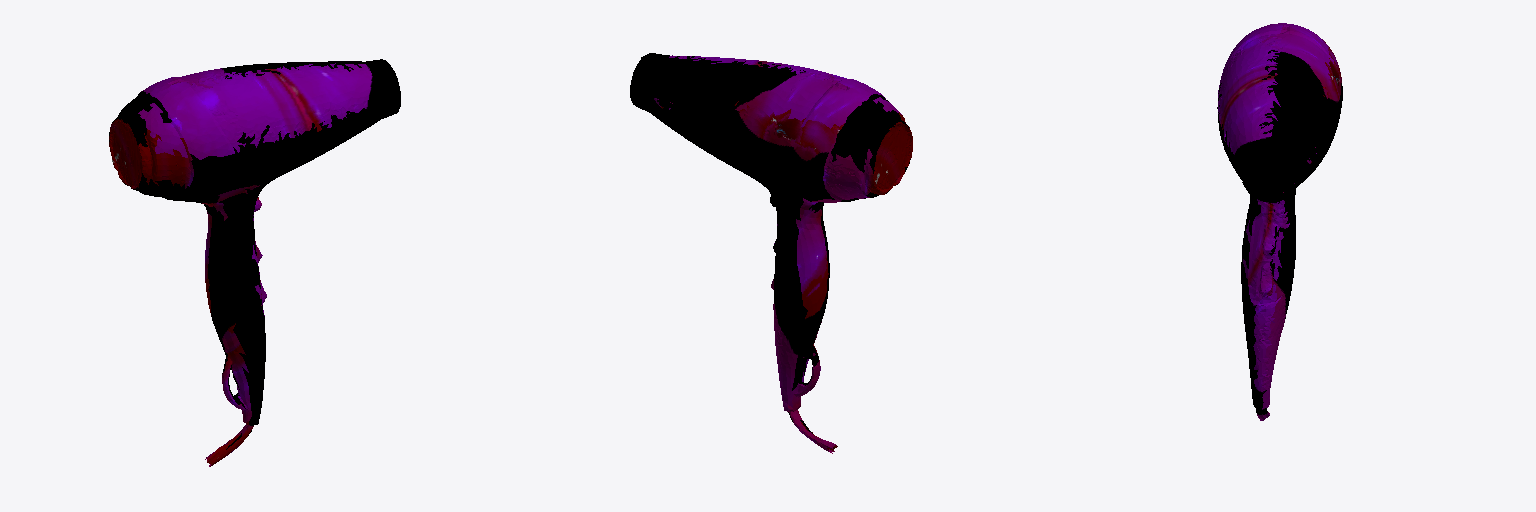
3 views of the same model, side by side, from view 1: azimuth 30°, elevation 25°; view 2: azimuth 150°, elevation 25°; view 3: azimuth 270°, elevation 25° (orthographic).
Visible parts, largest first — view 1: model.005; view 2: model.005; view 3: model.005.
Part boxes in pixels (bbox=[...]): model.005: bbox=[109, 59, 400, 466]; model.005: bbox=[630, 53, 912, 453]; model.005: bbox=[1217, 23, 1342, 420].
Size of the model in its own units: 0.213 by 0.2992 by 0.089.
Materials: 1 (1 with a texture image).